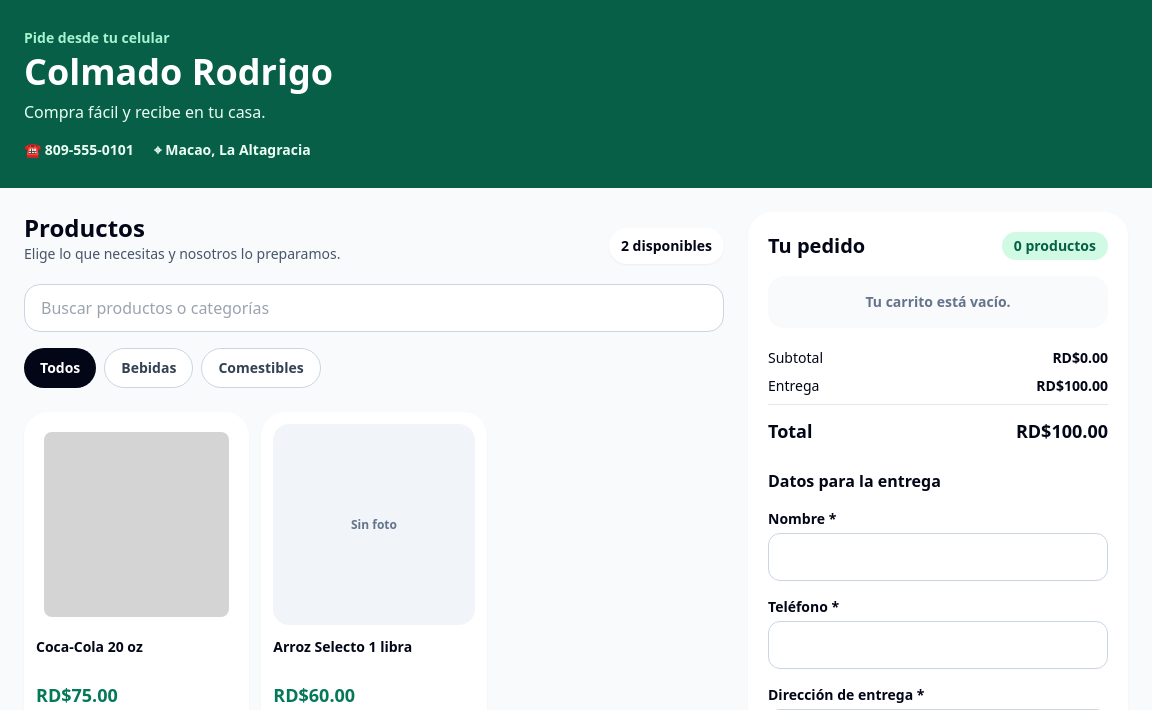
Test case: PublicStorefrontPage › searches products and filters them by category
Check: the text "Coca-Cola 20 oz" is shown, box x1=36 y1=637 x2=143 y2=656
Type "arroz" into the search field labelled "Buscar productos".
click(374, 308); type("arroz")  # box x1=24 y1=284 x2=724 y2=332
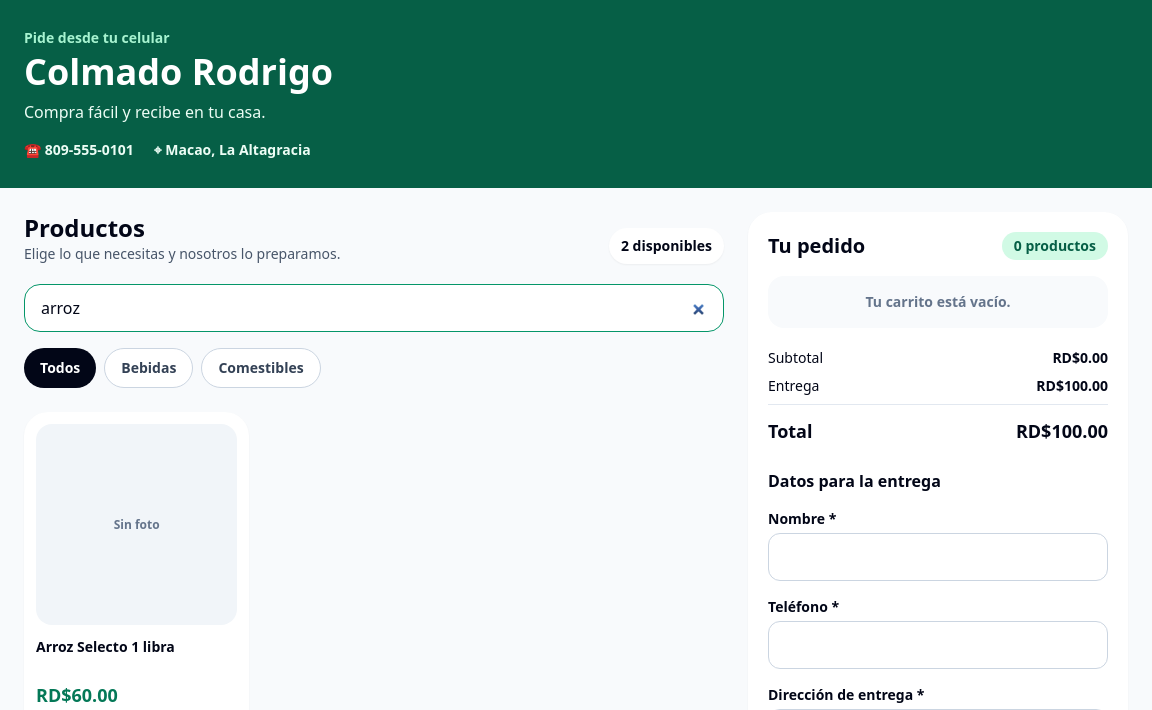
Check: the text "Arroz Selecto 1 libra" is shown, box x1=36 y1=637 x2=175 y2=656
Check: the text "Coca-Cola 20 oz" is gone
Clear the search field named "Buscar productos" at (374, 308), box x1=24 y1=284 x2=724 y2=332
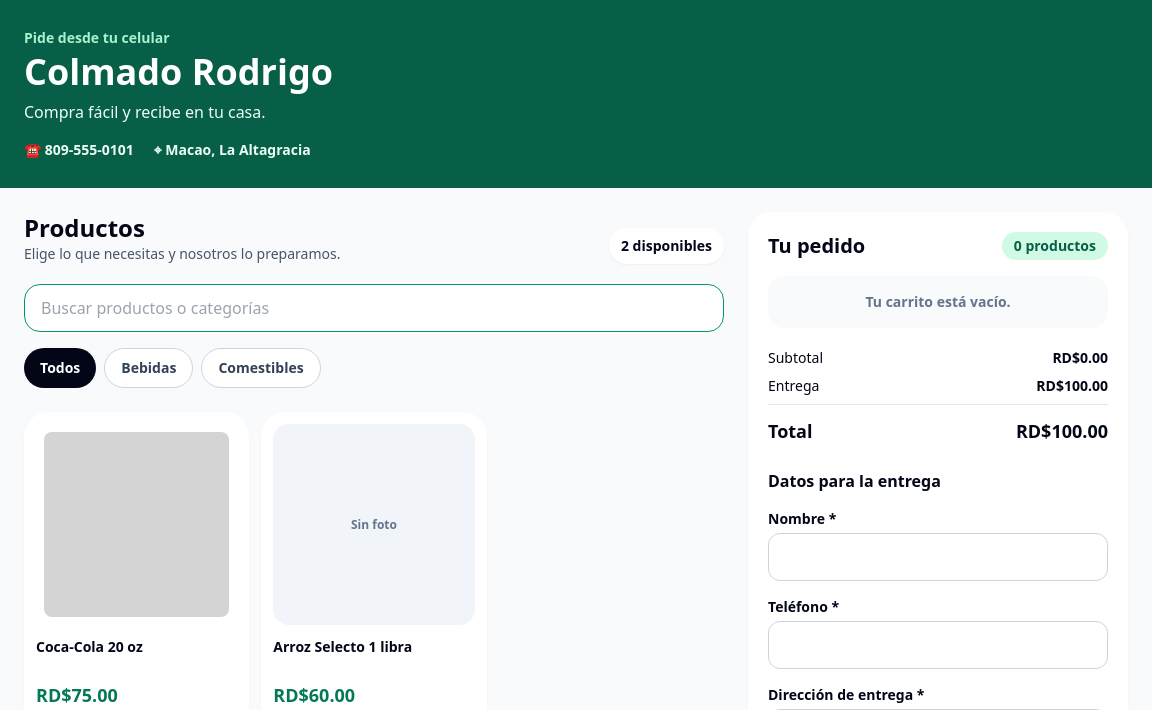
Click the button "Bebidas".
click(149, 368)  # box x1=104 y1=348 x2=193 y2=388
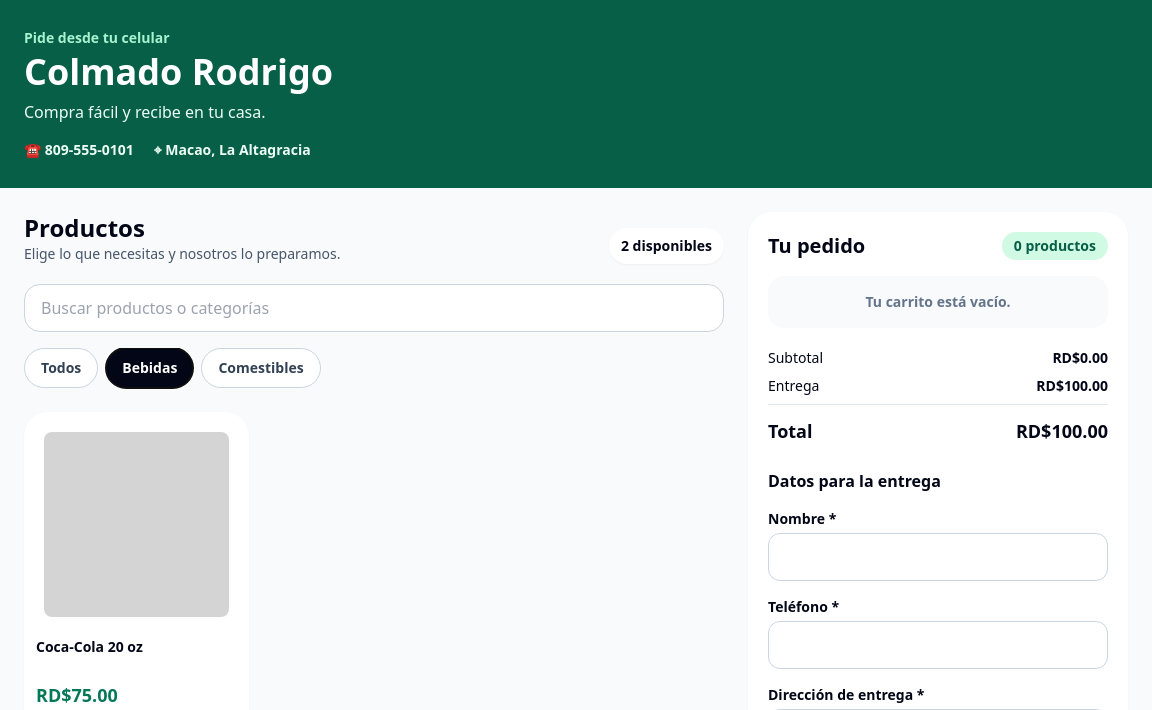
Check: the text "Coca-Cola 20 oz" is shown, box x1=36 y1=637 x2=143 y2=656
Check: the text "Arroz Selecto 1 libra" is gone
